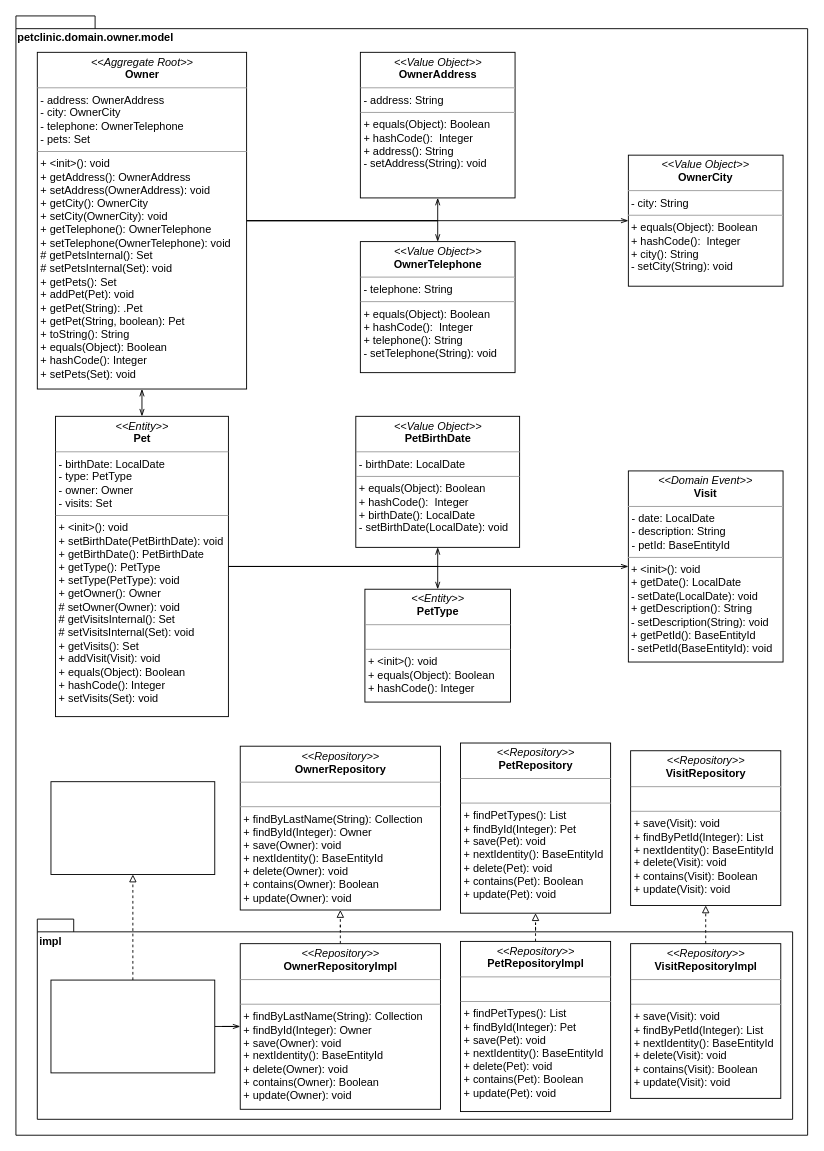
Image size: 824x1151. Some labels were removed from this diagram. Each missing label, with the centre of its shape:
<<Factory>> OwnerFactory + create(...): Owner: the point at 132,828
<<Factory>> OwnerFactoryImpl - repository: OwnerRepository + create(...): Owner: the point at 132,1026
